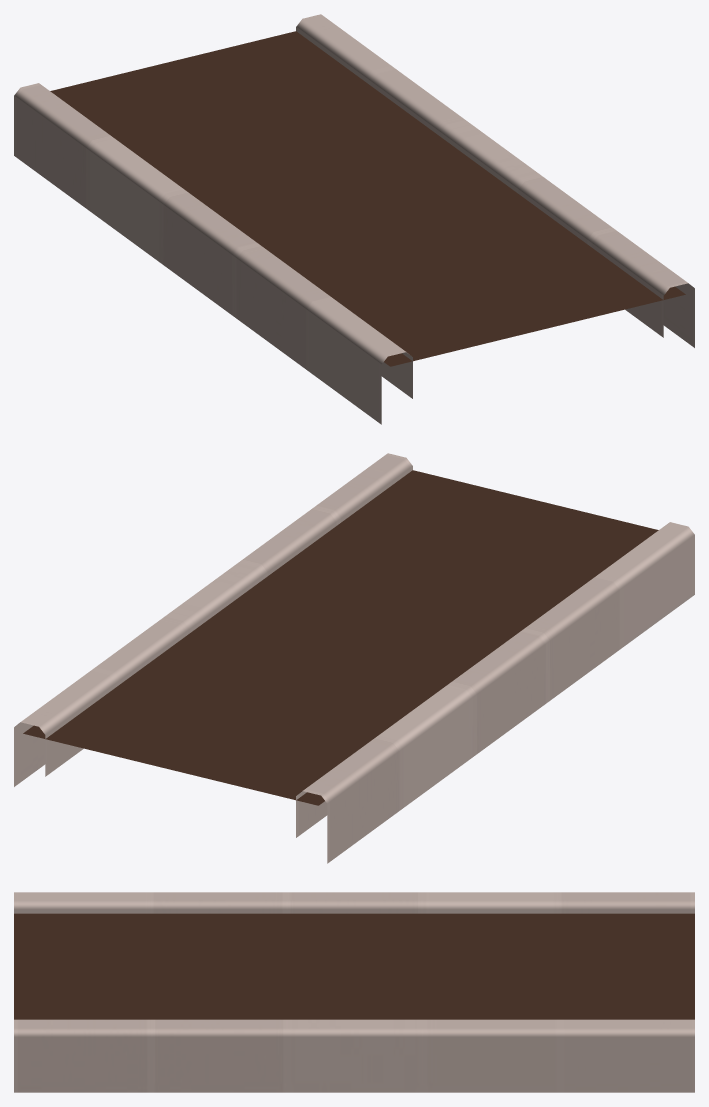
File: GardenBed_Modular_4m_Mid.fbx
The picture shows the model from 3 angles, top to bottom: view 1: azimuth 30°, elevation 25°; view 2: azimuth 150°, elevation 25°; view 3: azimuth 270°, elevation 25°; orthographic projection. The views are drawn at different scales.
Visible parts, largest first — view 1: GardenBed_Modular_4m_Mid; view 2: GardenBed_Modular_4m_Mid; view 3: GardenBed_Modular_4m_Mid.
Part boxes in pixels (bbox=[...]): GardenBed_Modular_4m_Mid: bbox=[14, 14, 694, 424]; GardenBed_Modular_4m_Mid: bbox=[14, 453, 694, 863]; GardenBed_Modular_4m_Mid: bbox=[14, 892, 694, 1092].
Size of the model in its own units: 197 by 40 by 400.
